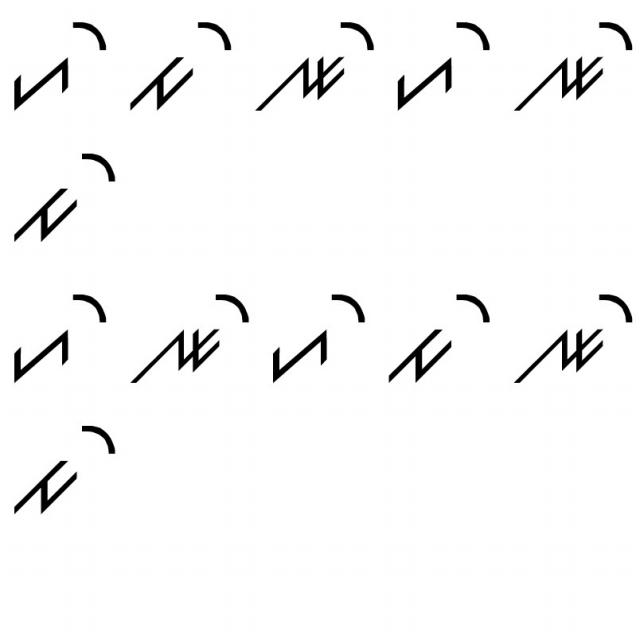hay: (262, 284, 372, 390), (5, 7, 110, 118), (389, 12, 496, 118), (6, 284, 109, 384)
mbay: (10, 412, 121, 532), (384, 284, 498, 392), (7, 145, 120, 246), (127, 15, 232, 115)
nday: (516, 280, 637, 394), (120, 288, 252, 390), (512, 18, 634, 121), (249, 20, 379, 115)
